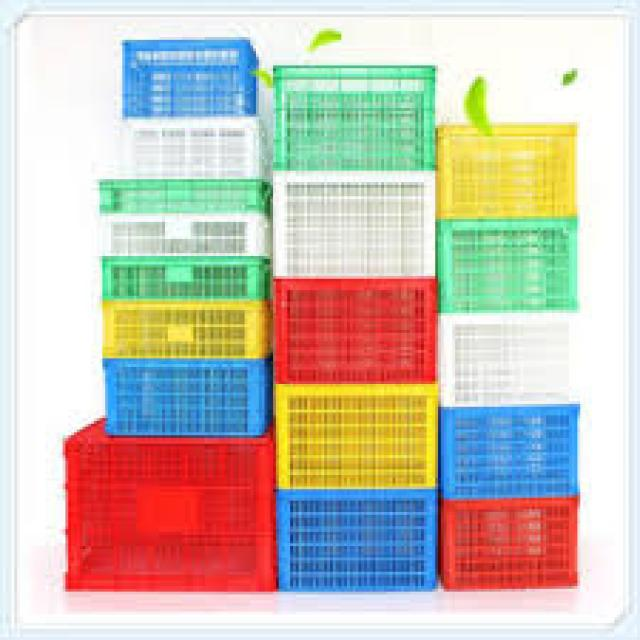basket: (98, 38, 274, 439), (64, 421, 280, 594), (122, 40, 259, 117), (117, 117, 270, 181), (100, 179, 270, 215)
